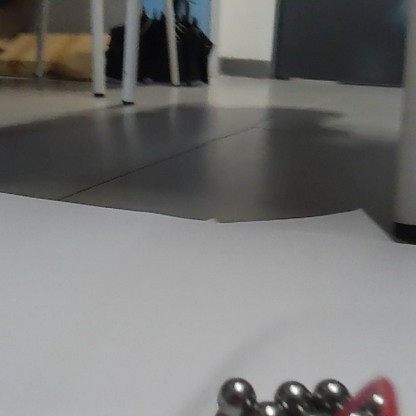ironball: (218, 376, 253, 411), (316, 379, 348, 403), (277, 382, 310, 400), (254, 399, 282, 414)
